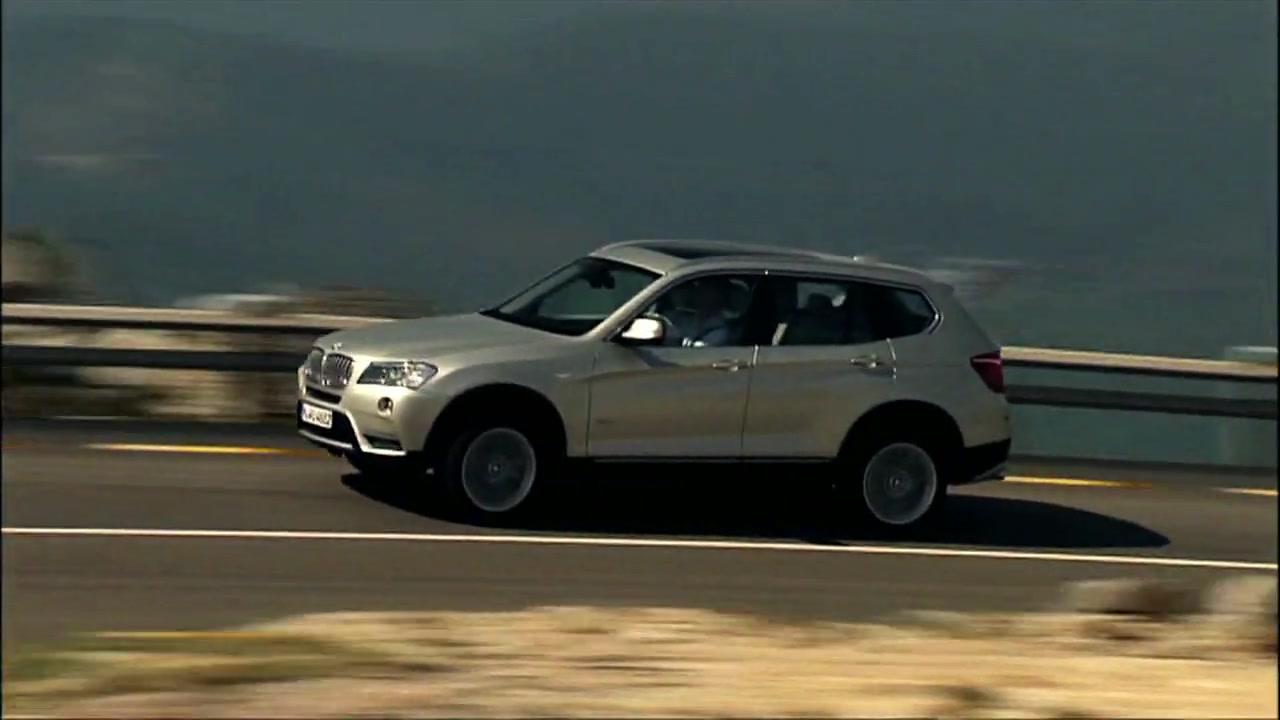car: (296, 233, 1021, 535)
